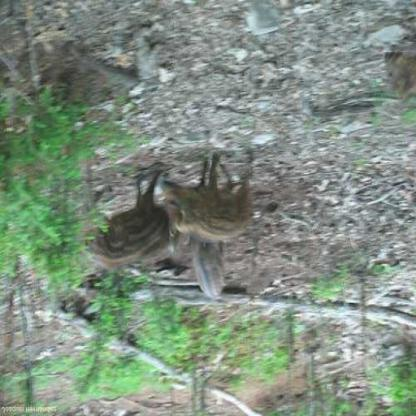boar: (85, 185, 181, 299), (165, 169, 249, 253), (183, 238, 219, 307)
